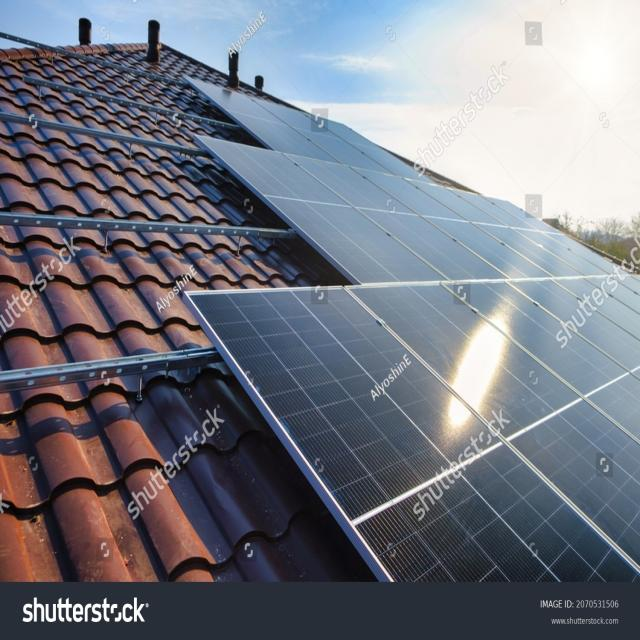clean-solar-panel: (185, 77, 640, 580)
